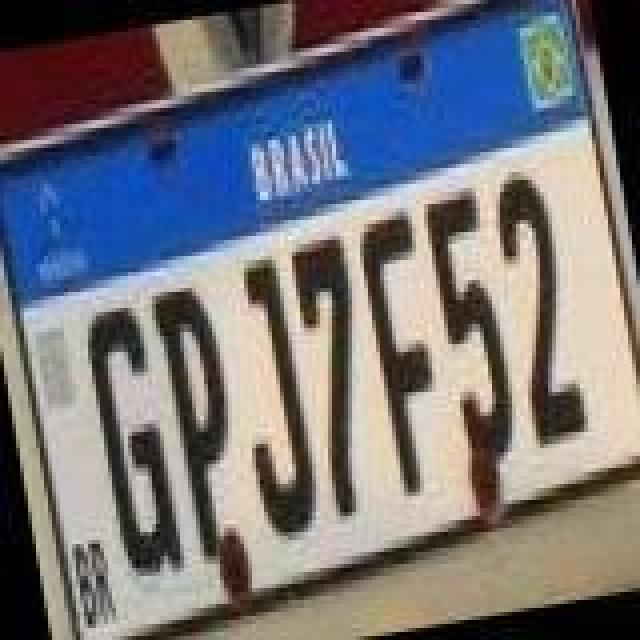2: (488, 166, 592, 450)
5: (420, 186, 524, 470)
7: (284, 230, 388, 522)
F: (352, 208, 456, 496)
G: (76, 302, 188, 586)
J: (218, 254, 326, 546)
P: (146, 282, 254, 566)
